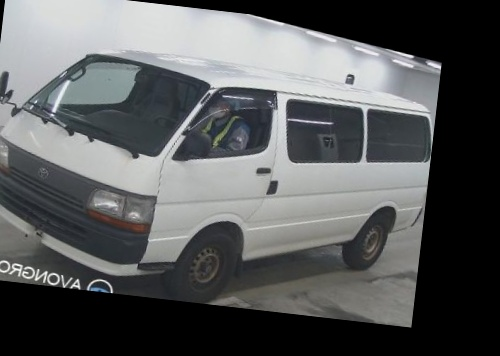van: (0, 0, 444, 328)
